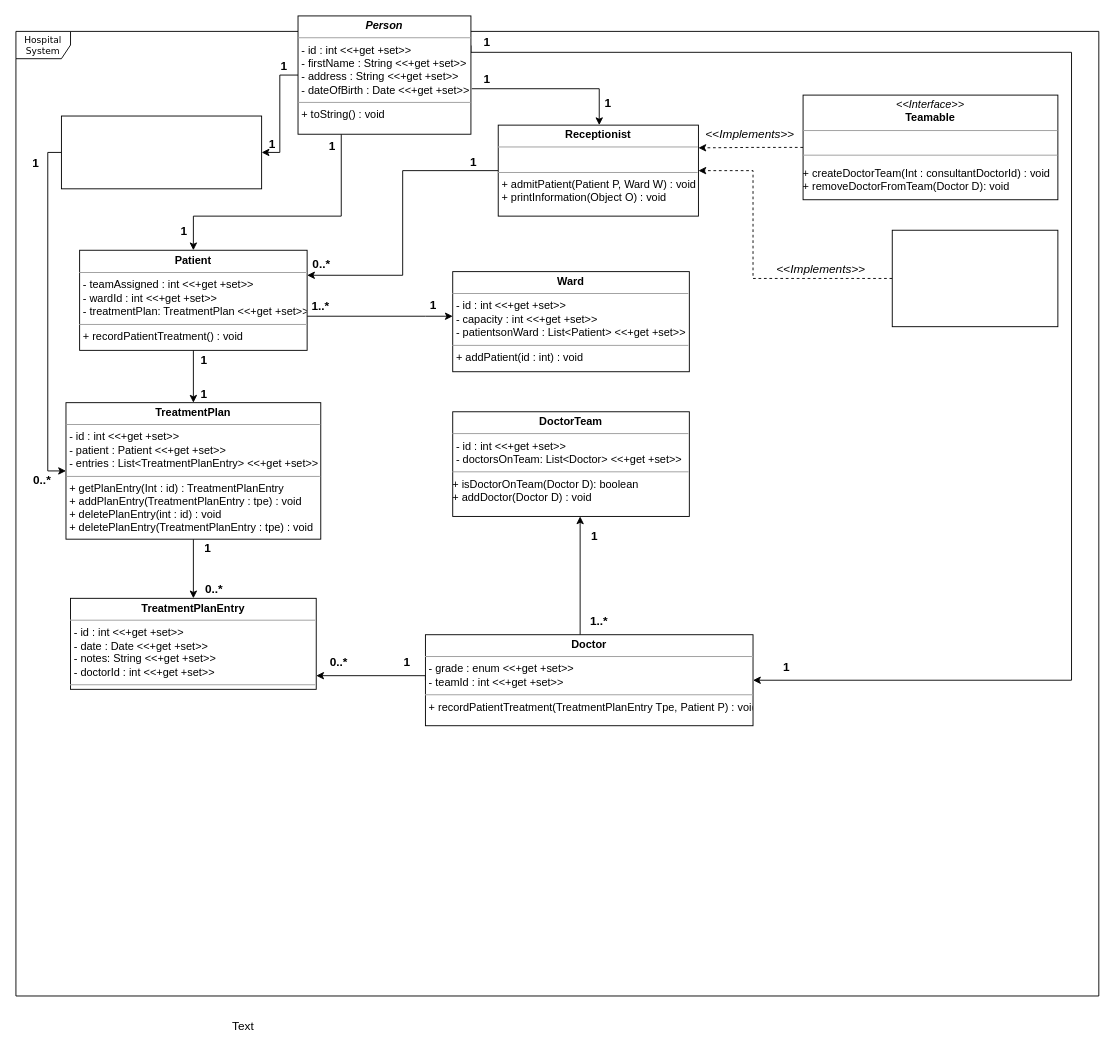
Image size: 1115x1051. Some labels were removed from this diagram. The shapes that lost their labels are listed below. From the top down, each one's centre as x and y in pixels, then its label:
pixel 161 152: Nurse + checkTreatmentPlan(Patient P) : void
pixel 974 278: <<Interface>> Promotable + promoteDoctor(Doctor D) : void
